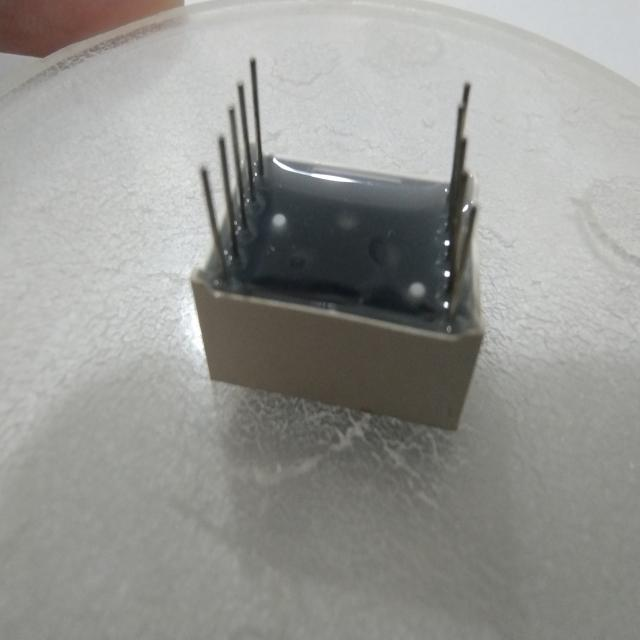7_segments: (181, 41, 498, 455)
